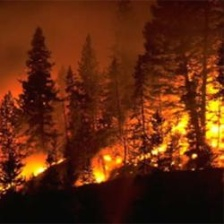fire: (2, 60, 224, 191)
